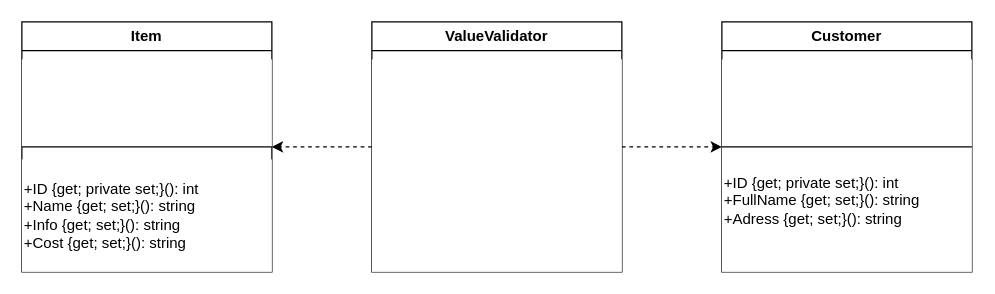
Image size: 995x294. Some labels were removed from this diagram. The centre of each missing label's shape, as x and y in pixels:
+AssertStringOnLength(string, int, string): void: (496,165)
-_idCounter: int -_id: int -_fullName: string -_adress: string: (846,102)
-_idCounter: int -_id: int -_name: string -_info: string -_cost: int: (146,102)
